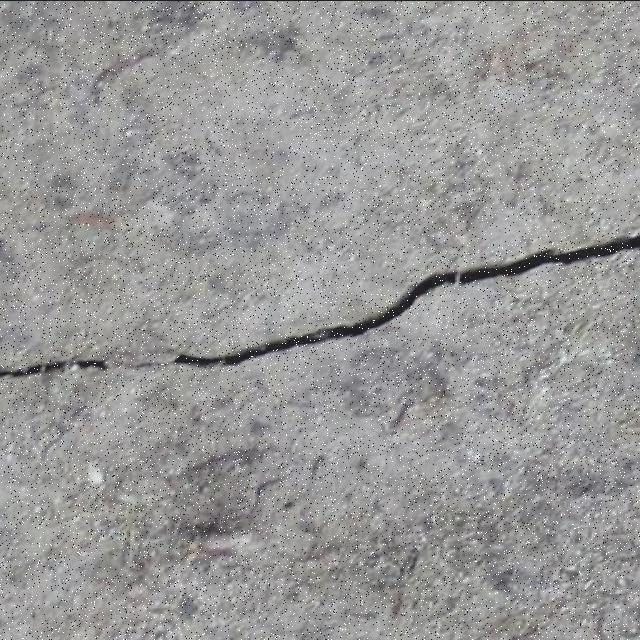crack: (1, 230, 638, 379)
